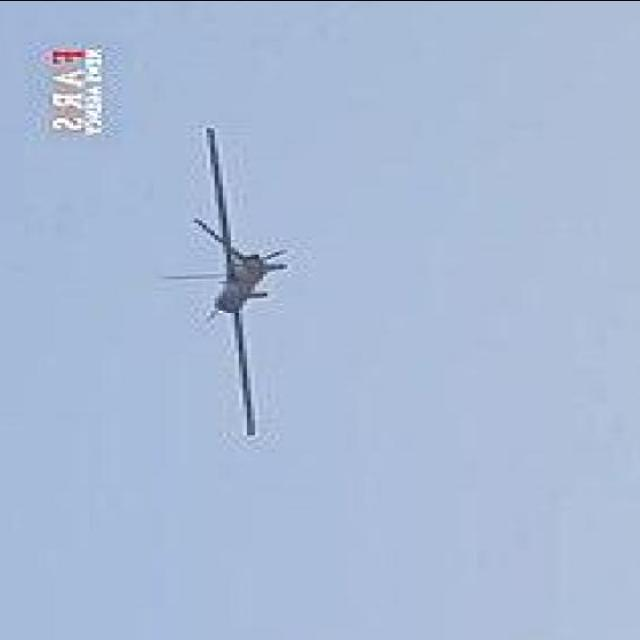plane: (156, 126, 290, 439)
